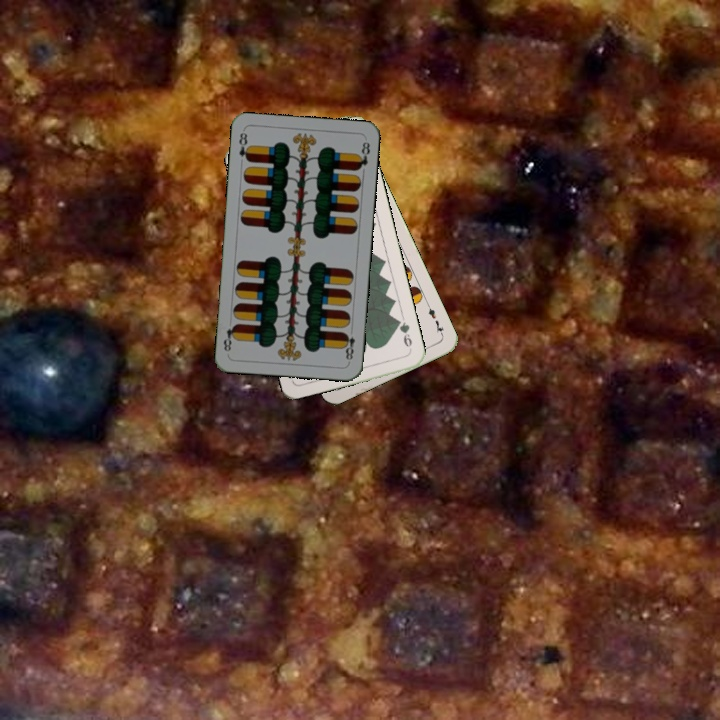E7: (423, 300, 446, 338)
E8: (340, 324, 357, 365), (235, 129, 253, 164)
G9: (392, 315, 415, 354)
